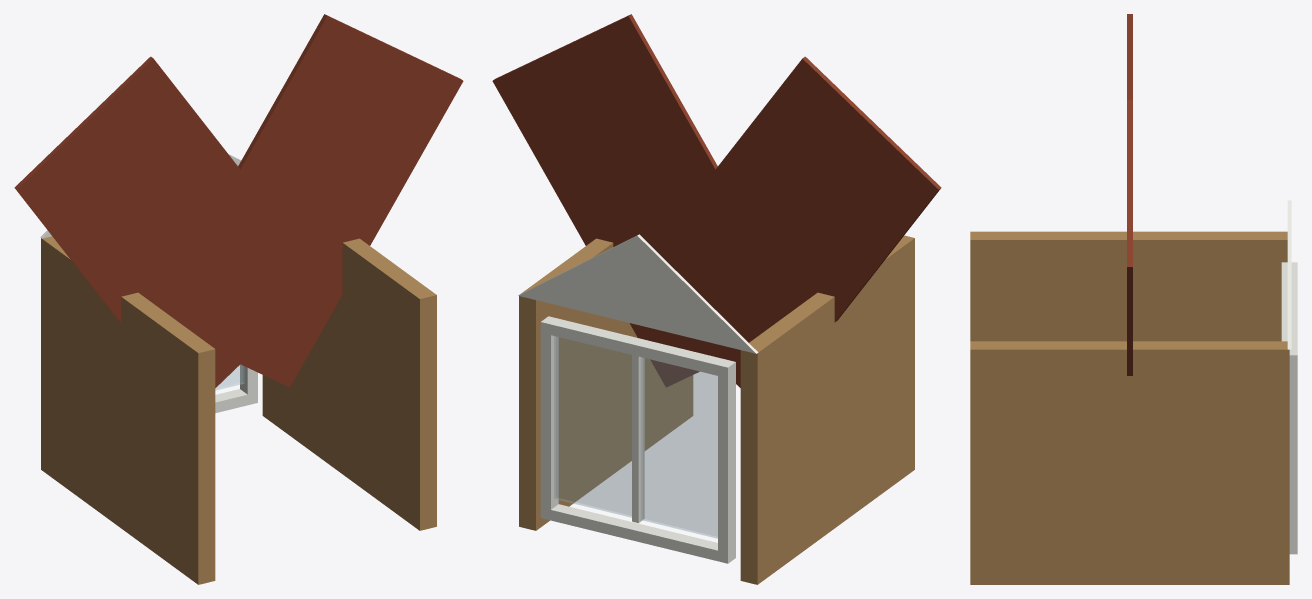
The model's file is roof.dormer.pitched.glb.
3 views of the same model, side by side, from view 1: azimuth 30°, elevation 25°; view 2: azimuth 150°, elevation 25°; view 3: azimuth 270°, elevation 25° (orthographic).
Parts seen in each view (by area): view 1: main__clay_tile, main__softwood, main__paint_white; view 2: main__clay_tile, main__softwood, main__paint_white, main__glass; view 3: main__softwood, main__paint_white, main__clay_tile.
Boxes of the visible parts, x1,y1,x2,y2 form: main__clay_tile: (14, 14, 463, 387); main__softwood: (41, 236, 436, 584); main__paint_white: (40, 154, 257, 413); main__clay_tile: (492, 14, 941, 387); main__softwood: (519, 235, 914, 584); main__paint_white: (518, 234, 758, 563); main__glass: (554, 336, 717, 538); main__softwood: (970, 231, 1289, 584); main__paint_white: (1281, 200, 1297, 554); main__clay_tile: (1127, 14, 1132, 375).
Bounding box in the file's own units: 2.62 × 2.59 × 1.64.
